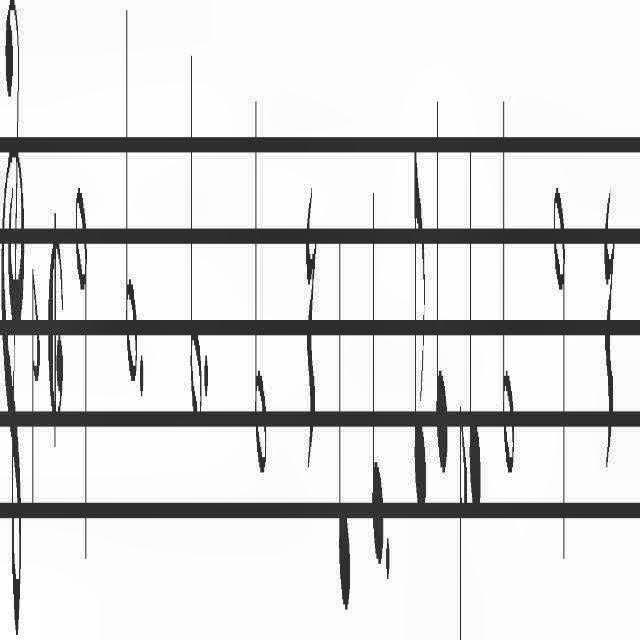Bass-clef: (0, 0, 24, 624)
Bemol: (28, 252, 42, 534), (456, 396, 468, 640)
Eighth-note: (412, 118, 428, 554)
Half-note: (548, 150, 572, 550), (72, 131, 92, 569), (498, 97, 516, 516), (121, 0, 139, 408), (186, 30, 202, 470), (254, 80, 270, 492)
Quarter-note: (335, 217, 355, 638), (432, 112, 450, 512), (467, 145, 485, 520), (372, 205, 384, 599)
Quarter-rest: (600, 191, 620, 481), (304, 166, 320, 497)
